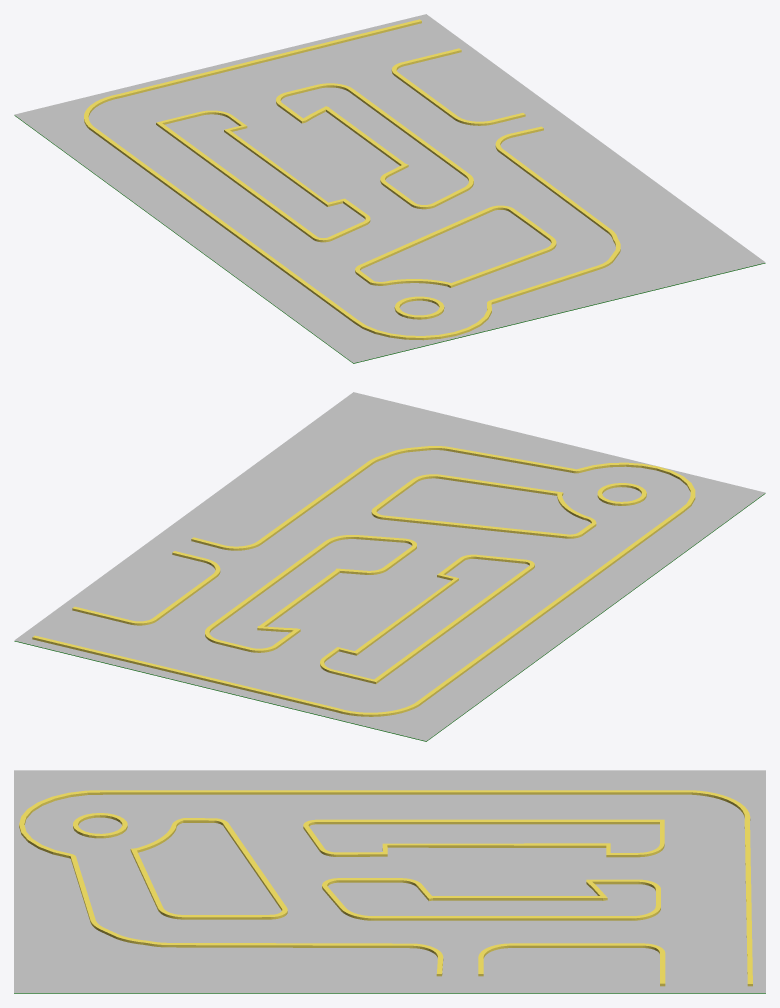
The model's file is pista.fbx.
The picture shows the model from 3 angles, top to bottom: view 1: azimuth 30°, elevation 25°; view 2: azimuth 150°, elevation 25°; view 3: azimuth 270°, elevation 25°; orthographic projection. The views are drawn at different scales.
Visible parts, largest first — view 1: examen_practico_de_manejo_conchan_ruta_a-1024x718, Cube.001, Cube, Cube.003, Cube.004, Cube.002, unity_circuito; view 2: examen_practico_de_manejo_conchan_ruta_a-1024x718, Cube.001, Cube, Cube.003, Cube.004, Cube.002, unity_circuito; view 3: examen_practico_de_manejo_conchan_ruta_a-1024x718, Cube.001, Cube, Cube.004, Cube.003, Cube.002, Cube.006, unity_circuito, Cube.007.
Boxes of the visible parts, bbox=[...] form: examen_practico_de_manejo_conchan_ruta_a-1024x718: bbox=[14, 14, 765, 363]; Cube.001: bbox=[84, 19, 620, 340]; Cube: bbox=[156, 110, 370, 242]; Cube.003: bbox=[355, 205, 556, 287]; Cube.004: bbox=[276, 83, 473, 209]; Cube.002: bbox=[391, 48, 525, 125]; unity_circuito: bbox=[14, 115, 765, 363]; examen_practico_de_manejo_conchan_ruta_a-1024x718: bbox=[14, 392, 765, 741]; Cube.001: bbox=[32, 446, 695, 716]; Cube: bbox=[320, 554, 534, 683]; Cube.003: bbox=[371, 474, 596, 538]; Cube.004: bbox=[205, 535, 416, 652]; Cube.002: bbox=[72, 551, 220, 625]; unity_circuito: bbox=[14, 493, 765, 741]; examen_practico_de_manejo_conchan_ruta_a-1024x718: bbox=[14, 770, 765, 992]; Cube.001: bbox=[19, 790, 752, 986]; Cube: bbox=[303, 819, 664, 857]; Cube.004: bbox=[322, 878, 660, 920]; Cube.003: bbox=[130, 818, 287, 919]; Cube.002: bbox=[478, 943, 665, 986]; Cube.006: bbox=[432, 896, 605, 900]; unity_circuito: bbox=[14, 993, 765, 993]; Cube.007: bbox=[73, 813, 127, 838].
Bounding box in the file's own units: 100 × 1 × 143.
